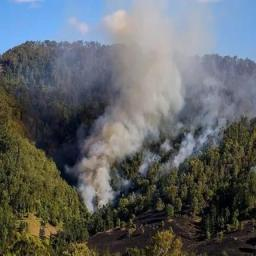Heavy smoke: (63, 0, 256, 216)
